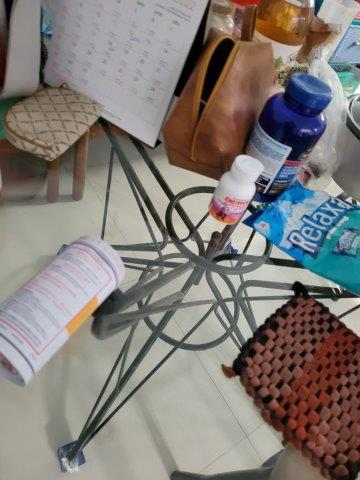kaleng: (1, 234, 125, 389)
